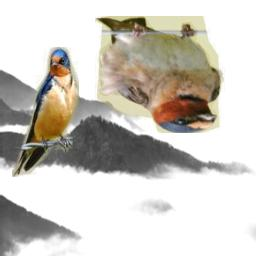Swallow: (95, 16, 225, 133), (12, 47, 79, 177)
